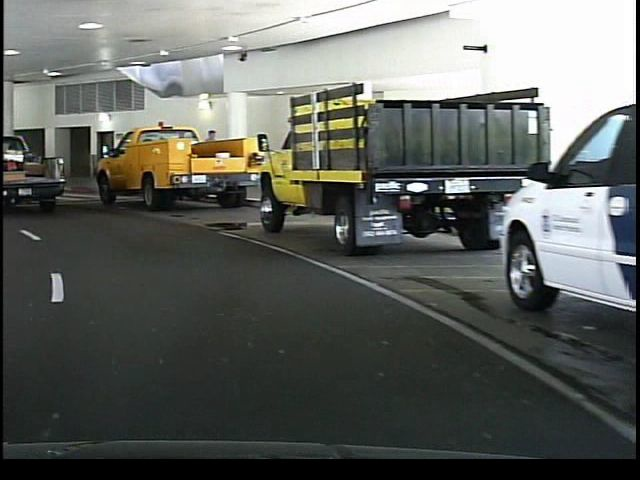person: (199, 124, 222, 196)
